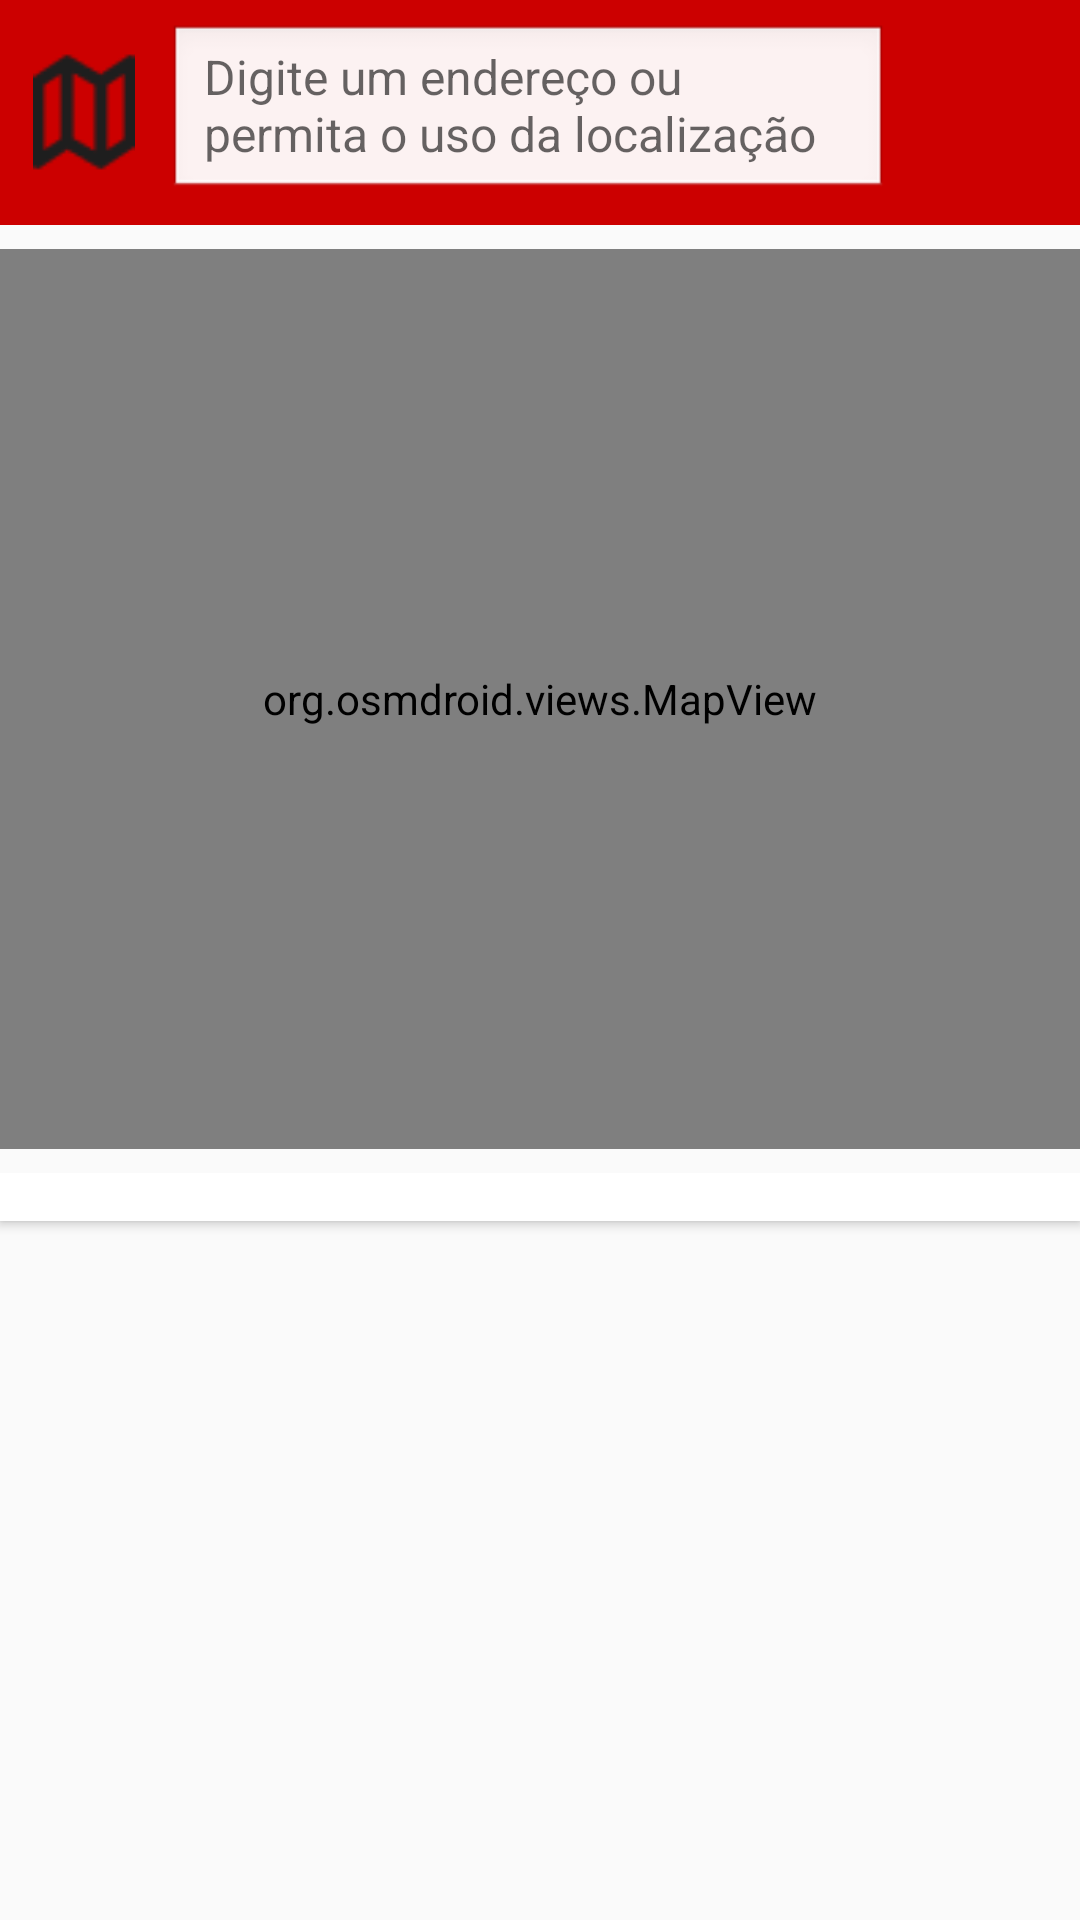

Point at icon controls on the screen. Image size 1080x1920, points as (x=x, y=y).
mapa: (x=84, y=112)
